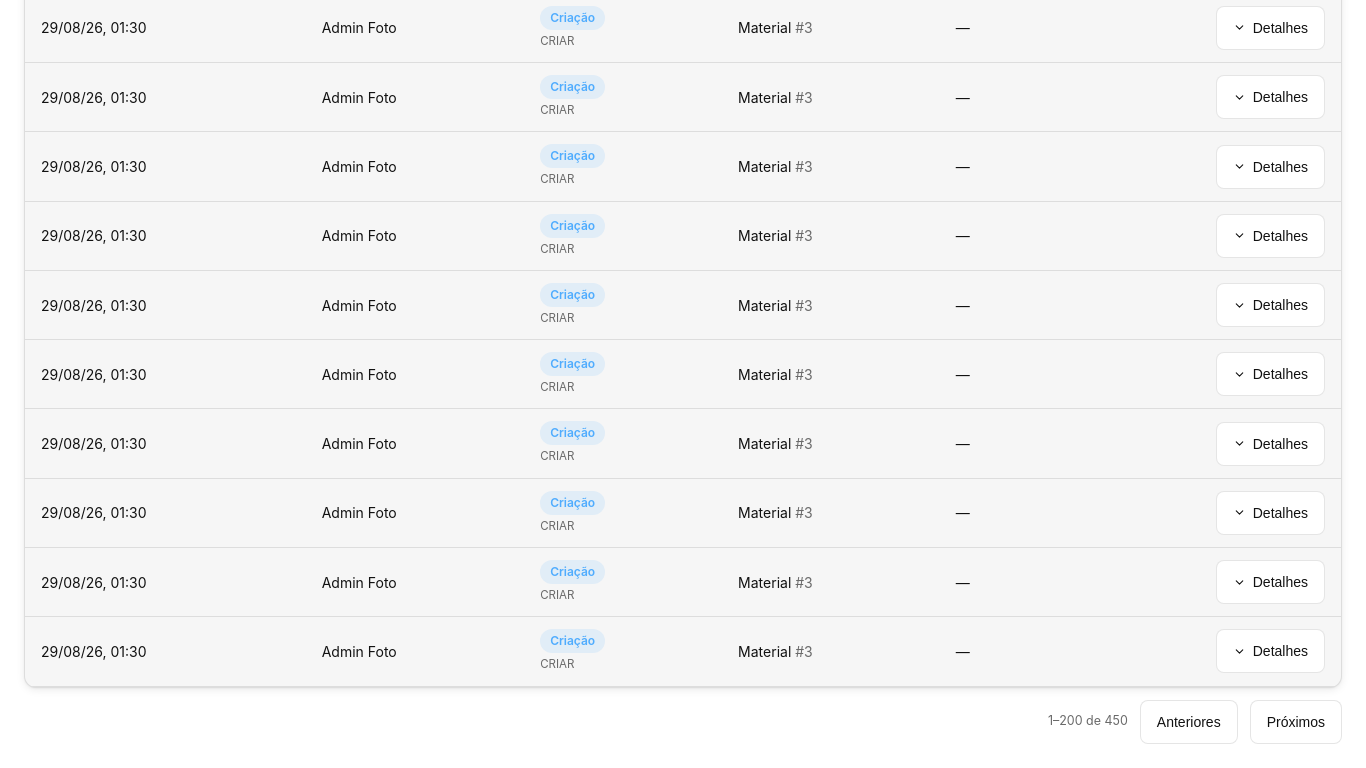
[A4] "Anteriores" volta uma pagina e nunca passa de zero
The width and height of the screenshot is (1366, 768).
Click the button "Próximos".
click(1296, 722)  # box [1250, 700, 1342, 744]
(page scrolled)
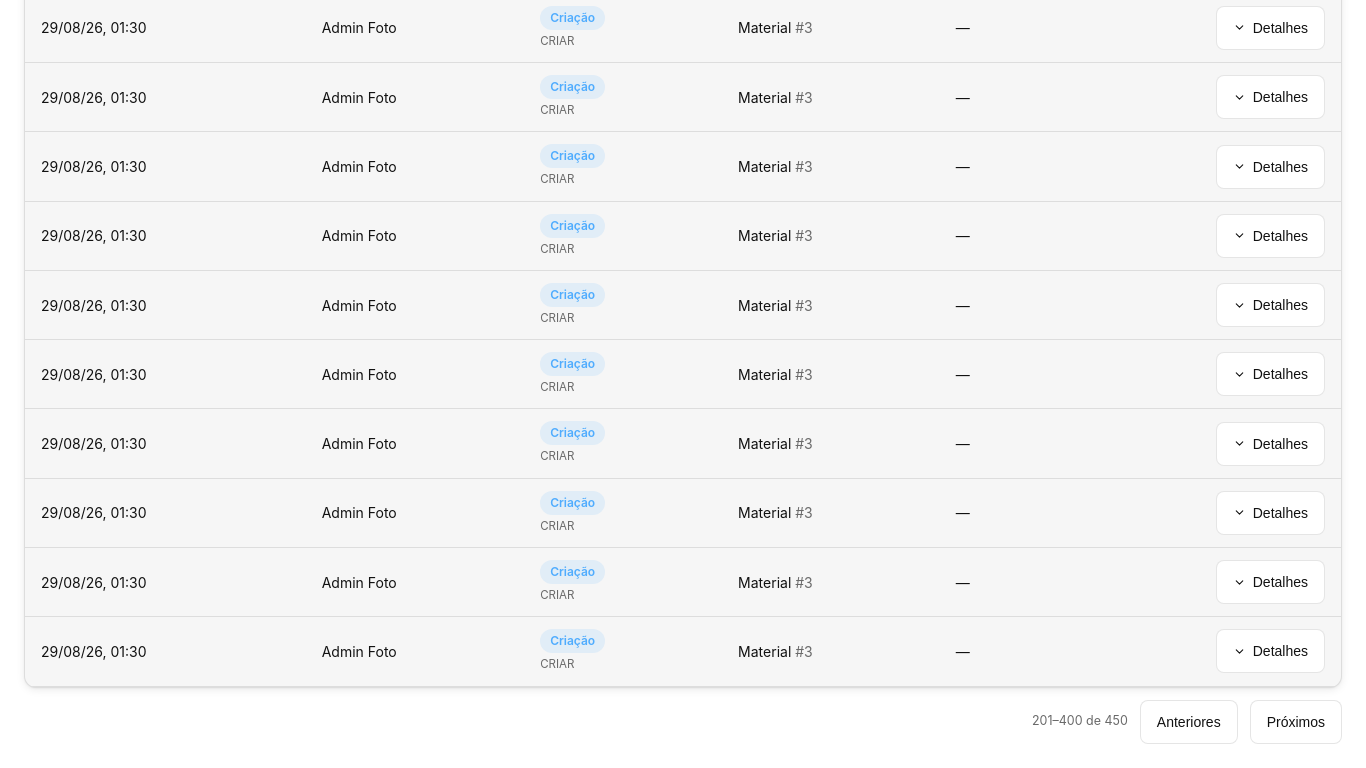
Click the button "Anteriores".
click(1189, 722)  # box [1140, 700, 1238, 744]
(page scrolled)
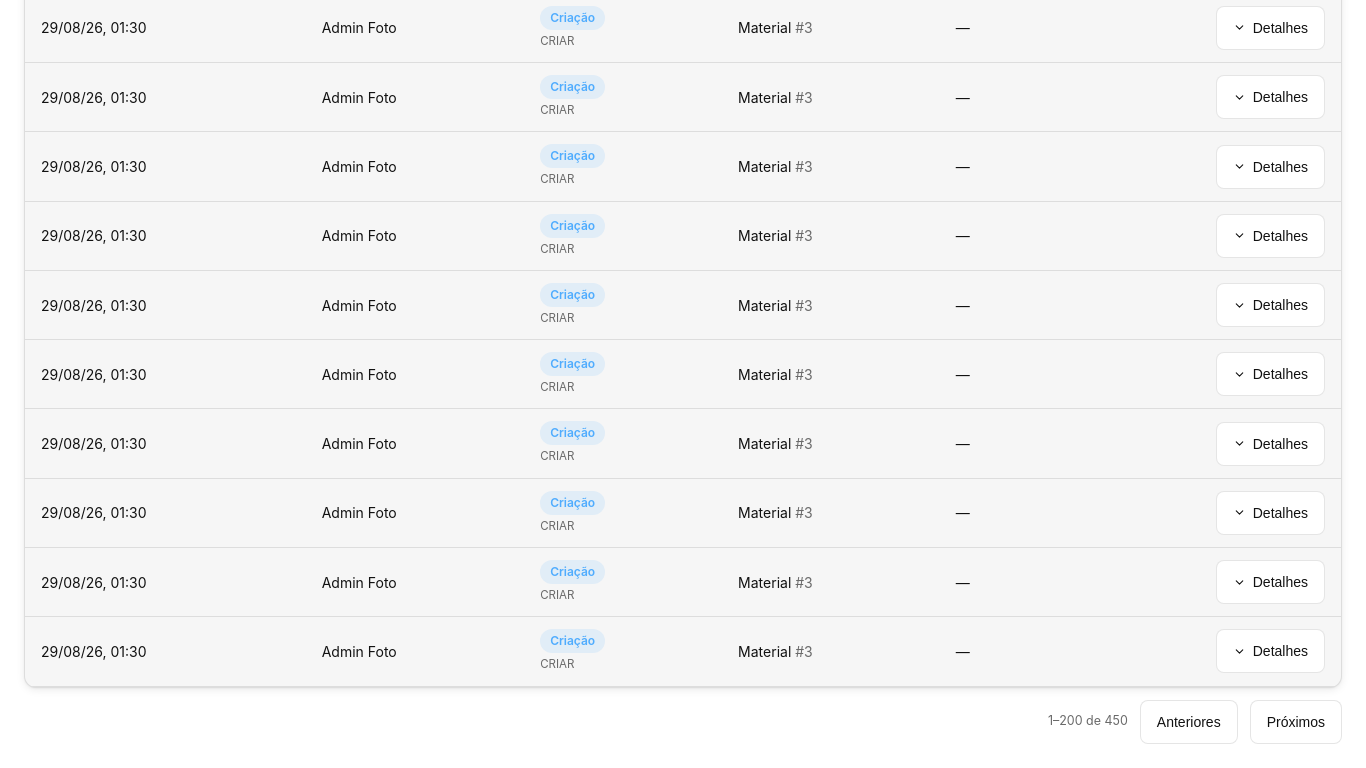
Expected: the text "1–200 de 450" is shown, [1048, 712, 1128, 731]
